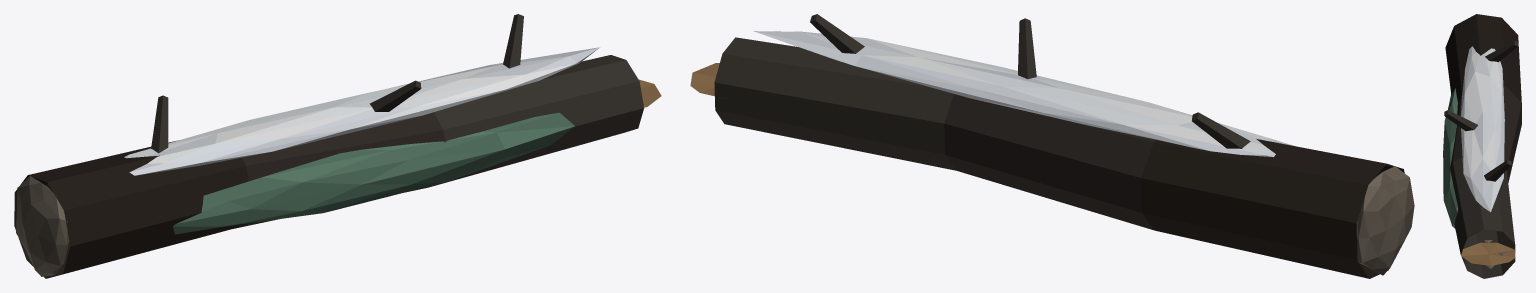
File: log_fallen.glb
3 renders of one model, left to right at view 1: azimuth 30°, elevation 25°; view 2: azimuth 150°, elevation 25°; view 3: azimuth 270°, elevation 25°, orthographic. The views are drawn at different scales.
Parts seen in each view (by area): view 1: log_fallen; view 2: log_fallen; view 3: log_fallen.
Boxes of the visible parts, x1,y1,x2,y2 form: log_fallen: [14, 14, 661, 278]; log_fallen: [690, 14, 1414, 278]; log_fallen: [1443, 14, 1521, 278].
Size of the model in its own units: 4.32 by 0.8481 by 0.6713.
